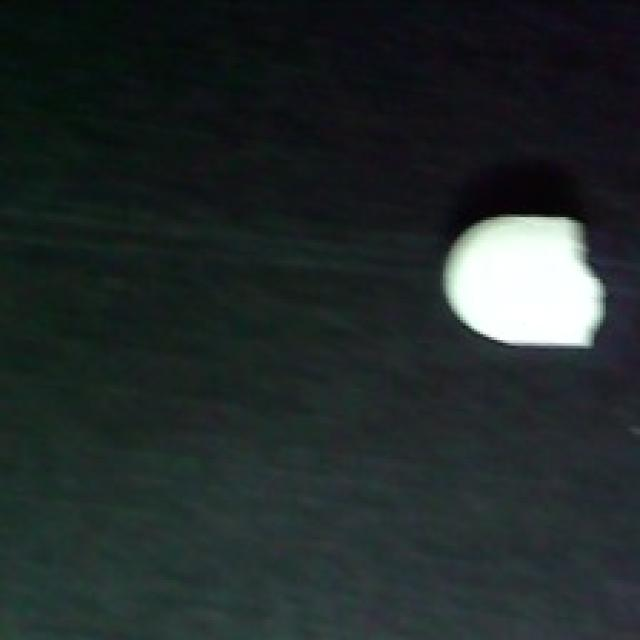defected: (440, 206, 609, 357)
